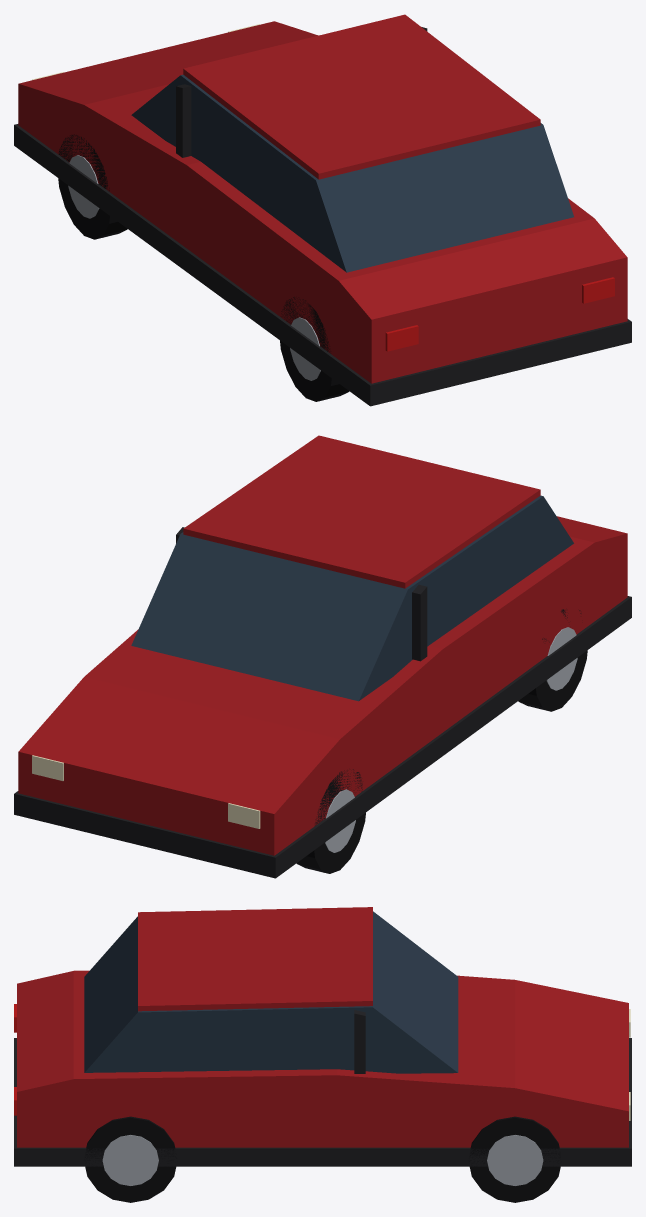
File: xe-oto.obj
3 views of the same model, one above another, from view 1: azimuth 30°, elevation 25°; view 2: azimuth 150°, elevation 25°; view 3: azimuth 270°, elevation 25° (orthographic). The views are drawn at different scales.
Size of the model in its own units: 1.85 by 1.5 by 4.34.
